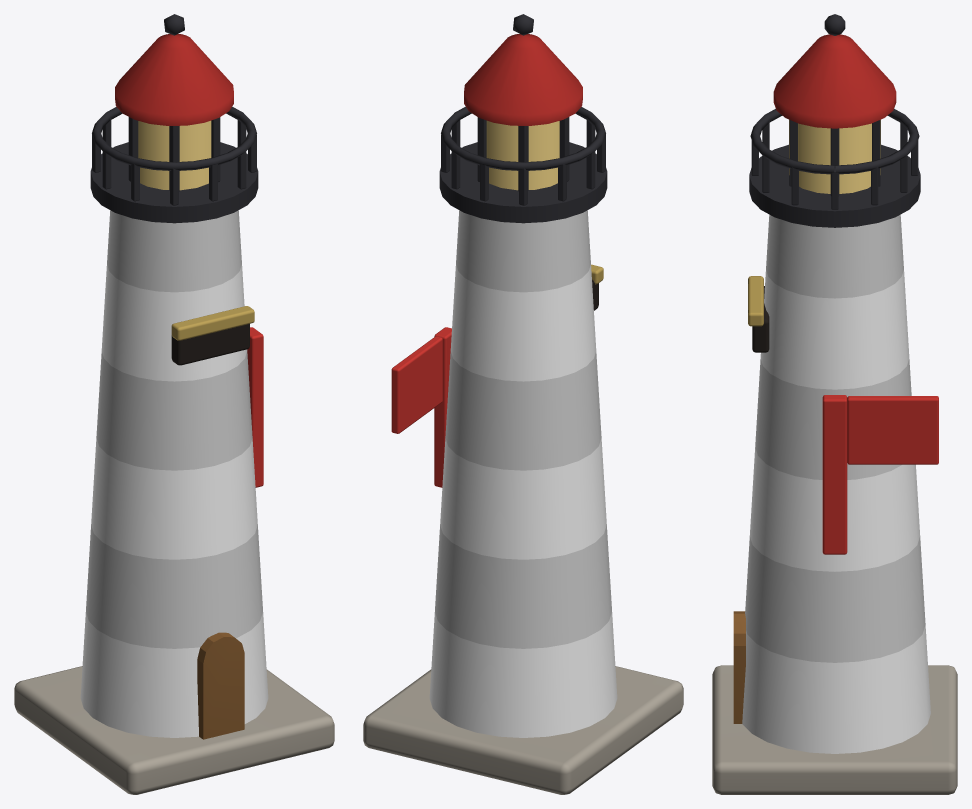
File: mailbox_lighthouse.glb
The picture shows the model from 3 angles, left to right: view 1: azimuth 30°, elevation 25°; view 2: azimuth 150°, elevation 25°; view 3: azimuth 270°, elevation 25°; orthographic projection. The views are drawn at different scales.
Visible parts, largest first — view 1: mailbox_lighthouse_main, mailbox_lighthouse_body, mailbox_lighthouse_glow, mailbox_lighthouse_flag; view 2: mailbox_lighthouse_main, mailbox_lighthouse_body, mailbox_lighthouse_flag, mailbox_lighthouse_glow; view 3: mailbox_lighthouse_main, mailbox_lighthouse_body, mailbox_lighthouse_flag, mailbox_lighthouse_glow.
Boxes of the visible parts, bbox=[...] form: mailbox_lighthouse_main: bbox=[14, 14, 334, 794]; mailbox_lighthouse_body: bbox=[80, 265, 268, 737]; mailbox_lighthouse_glow: bbox=[138, 120, 211, 190]; mailbox_lighthouse_flag: bbox=[247, 327, 263, 487]; mailbox_lighthouse_main: bbox=[363, 14, 683, 794]; mailbox_lighthouse_body: bbox=[429, 265, 617, 737]; mailbox_lighthouse_flag: bbox=[391, 327, 451, 487]; mailbox_lighthouse_glow: bbox=[486, 120, 559, 190]; mailbox_lighthouse_main: bbox=[712, 14, 957, 794]; mailbox_lighthouse_body: bbox=[742, 270, 930, 753]; mailbox_lighthouse_flag: bbox=[822, 395, 938, 554]; mailbox_lighthouse_glow: bbox=[789, 120, 880, 193].
Size of the model in its own units: 0.4 by 1.32 by 0.4.
